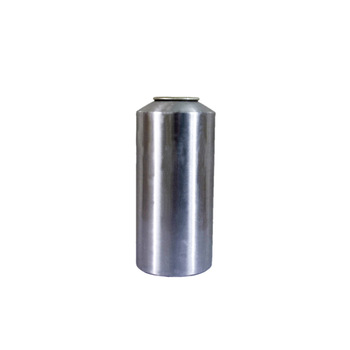metal: (134, 96, 216, 278)
